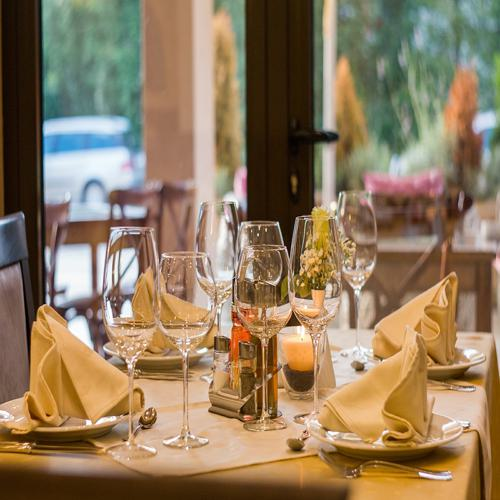copa: (104, 228, 159, 464), (156, 250, 216, 450), (291, 214, 343, 427), (234, 248, 291, 433), (233, 221, 290, 372), (334, 189, 382, 365), (197, 202, 242, 344)
